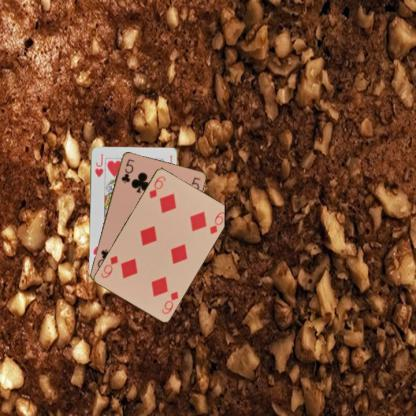5c: (118, 156, 136, 184)
6d: (159, 288, 180, 315), (146, 174, 167, 200)
Jh: (92, 151, 104, 178)
